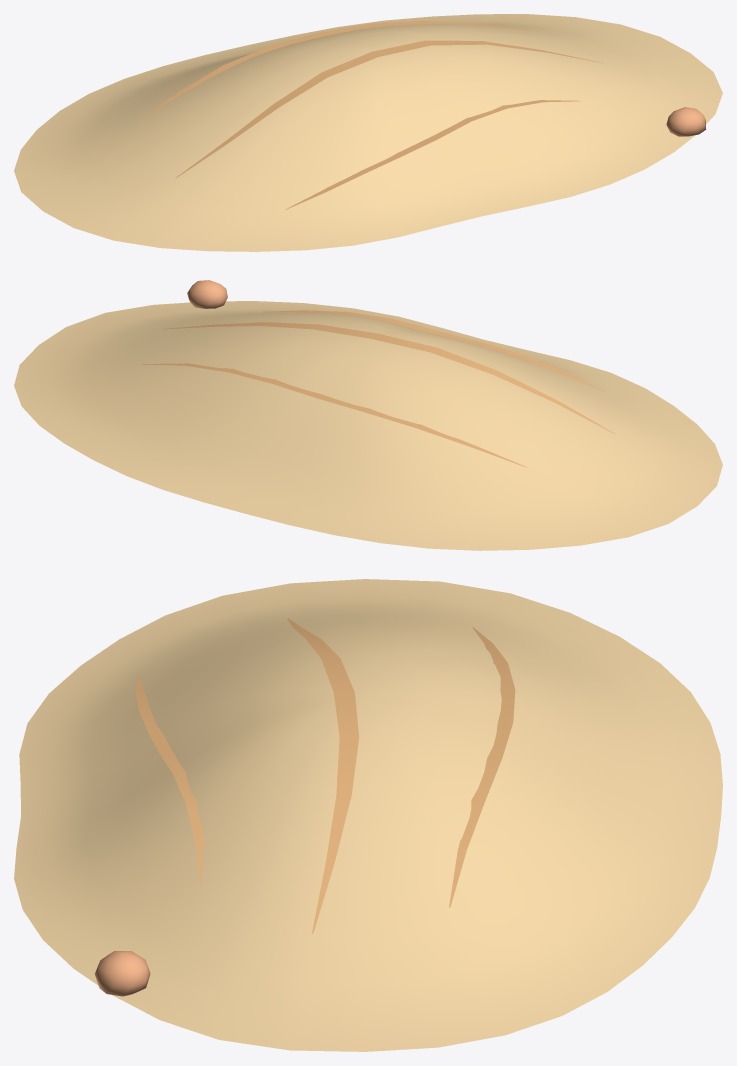
The model's file is prop_sand_dune.glb.
3 renders of one model, top to bottom at view 1: azimuth 30°, elevation 25°; view 2: azimuth 150°, elevation 25°; view 3: azimuth 270°, elevation 25°, orthographic. The views are drawn at different scales.
Visible parts, largest first — view 1: prop_sand_dune; view 2: prop_sand_dune; view 3: prop_sand_dune.
Boxes of the visible parts, <box> form: prop_sand_dune: <box>14,14,722,251</box>; prop_sand_dune: <box>14,280,722,550</box>; prop_sand_dune: <box>14,579,722,1051</box>.
Size of the model in its own units: 2.86 by 0.35 by 1.81.
